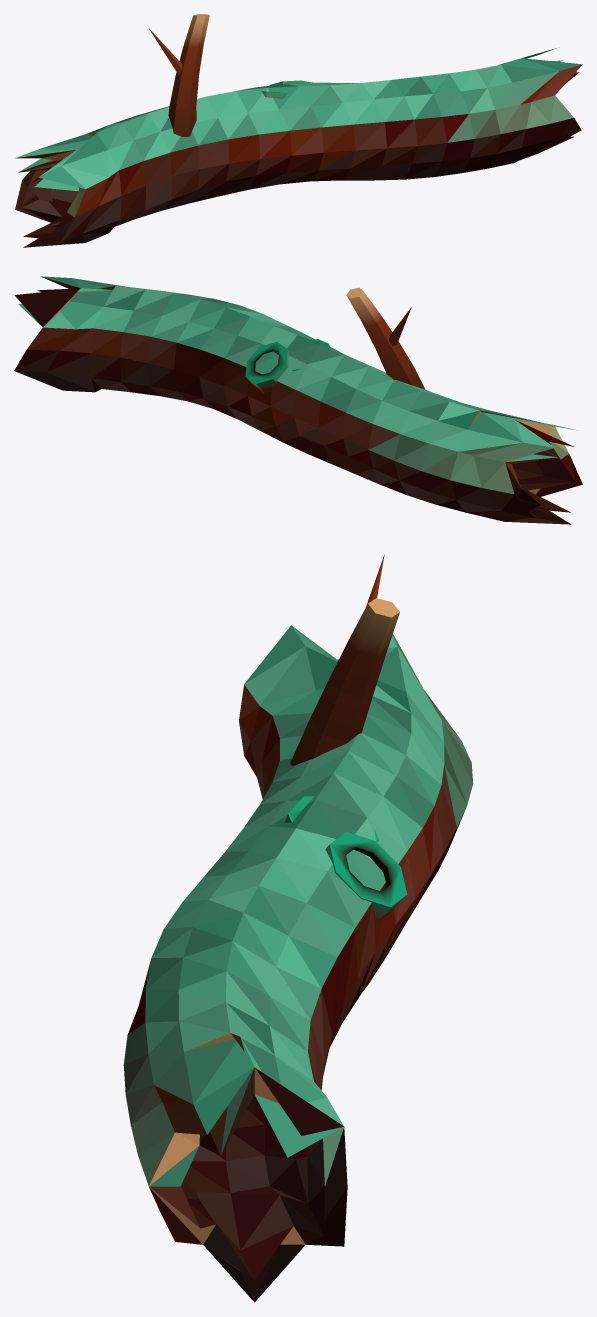
Rendered from pohon_tumbang_hollow_redwood_521570 (2).glb.
The picture shows the model from 3 angles, top to bottom: view 1: azimuth 30°, elevation 25°; view 2: azimuth 150°, elevation 25°; view 3: azimuth 270°, elevation 25°; orthographic projection. The views are drawn at different scales.
Visible parts, largest first — view 1: Batang_Pohon_Berlubang; view 2: Batang_Pohon_Berlubang; view 3: Batang_Pohon_Berlubang.
Part boxes in pixels (x1,y1,x2,y2): Batang_Pohon_Berlubang: (15, 14, 582, 247); Batang_Pohon_Berlubang: (14, 276, 582, 524); Batang_Pohon_Berlubang: (123, 554, 473, 1302).
Size of the model in its own units: 5.56 by 1.83 by 1.58.
